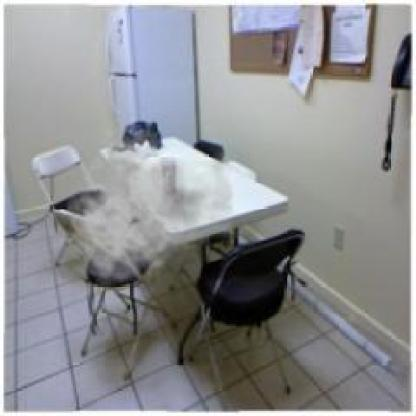Smoke: (65, 122, 247, 292)
